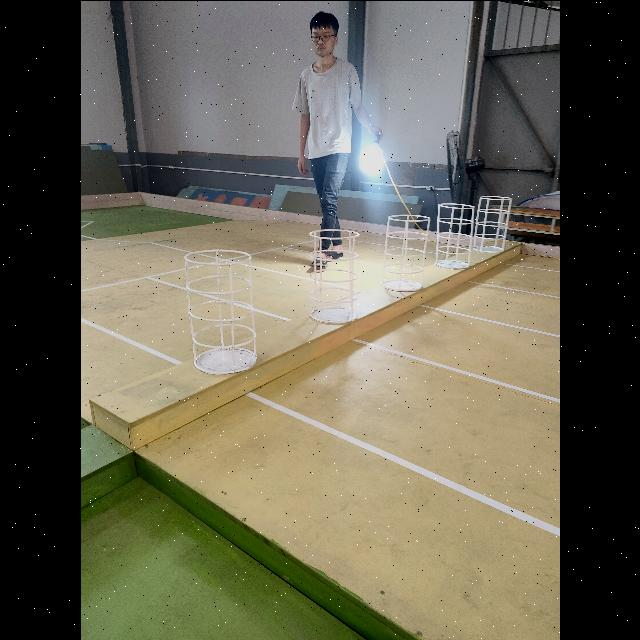S: (181, 245, 260, 377), (303, 226, 362, 326), (379, 210, 432, 294), (432, 201, 476, 269), (471, 194, 514, 253)
